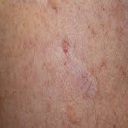Carcinoma: (58, 33, 73, 57)
